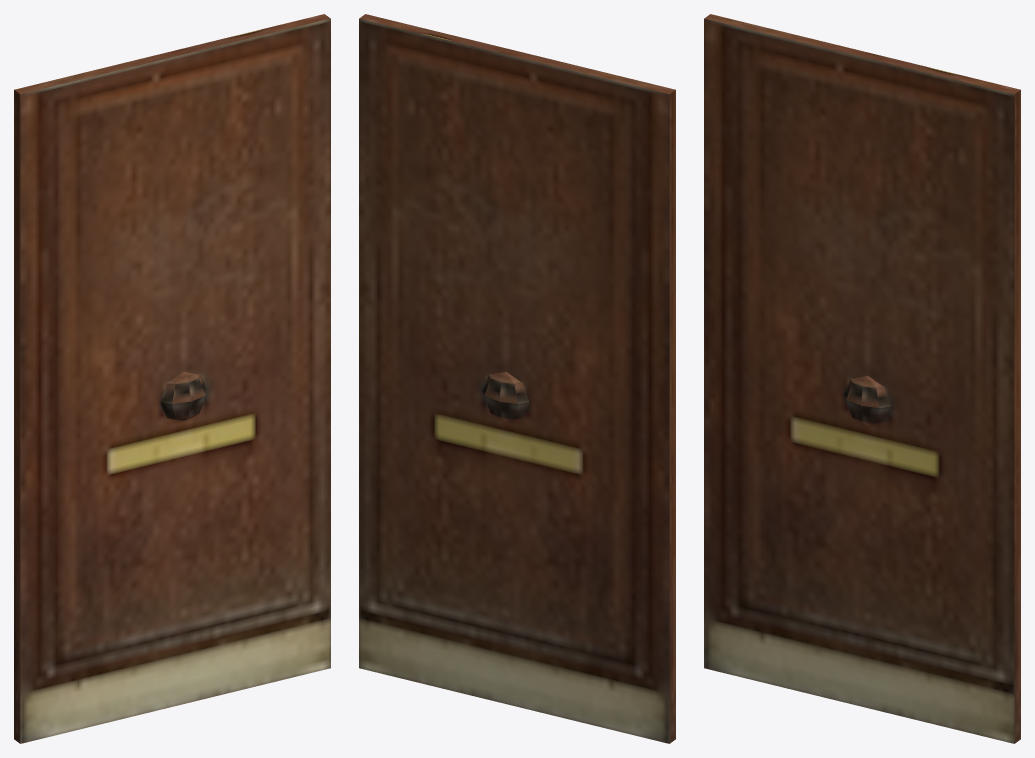
File: DoorWooden03a.obj
3 renders of one model, left to right at view 1: azimuth 30°, elevation 25°; view 2: azimuth 150°, elevation 25°; view 3: azimuth 330°, elevation 25°, orthographic.
Parts seen in each view (by area): view 1: DoorWooden03a; view 2: DoorWooden03a; view 3: DoorWooden03a.
Boxes of the visible parts, x1,y1,x2,y2 form: DoorWooden03a: (14,14,330,743); DoorWooden03a: (359,14,675,743); DoorWooden03a: (704,14,1020,743).
Size of the model in its own units: 1.5 by 3 by 0.1672.
